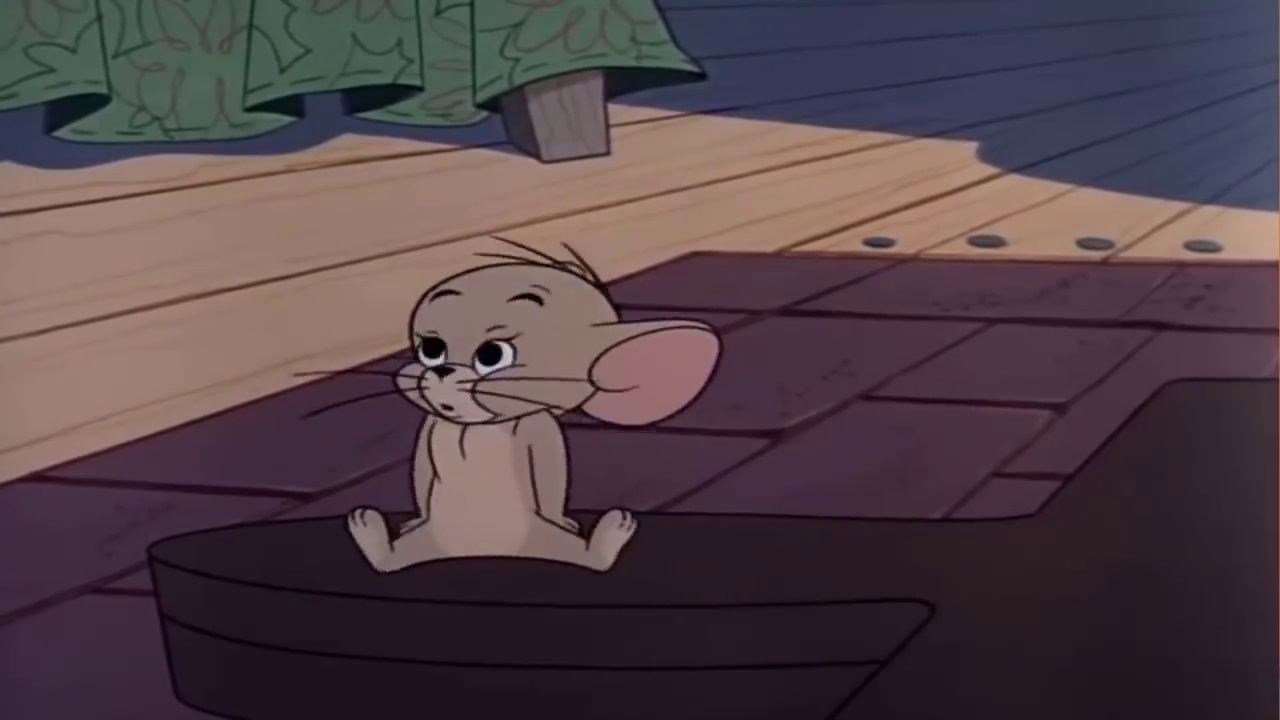face: (416, 281, 558, 428)
